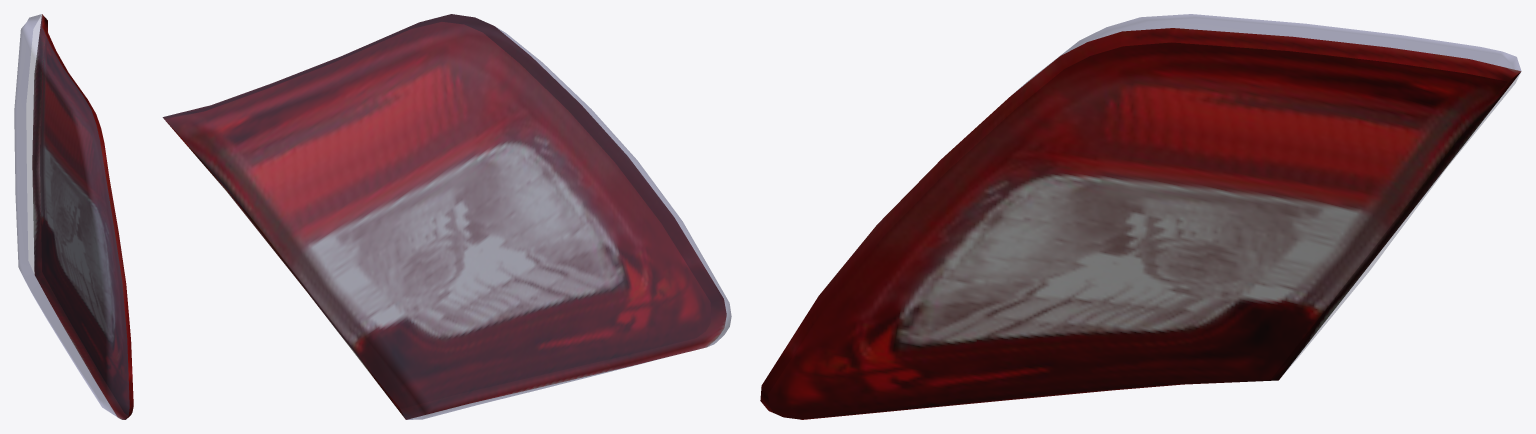
The picture shows the model from 3 angles, left to right: view 1: azimuth 30°, elevation 25°; view 2: azimuth 150°, elevation 25°; view 3: azimuth 270°, elevation 25°; orthographic projection. The views are drawn at different scales.
Visible parts, largest first — view 1: Y175_18_541D_L_Y175_18_541D_L_1_DTaSI, Y175_18_541D_L_2_N_Y175_18_541D_L; view 2: Y175_18_541D_L_Y175_18_541D_L_1_DTaSI, Y175_18_541D_L_2_N_Y175_18_541D_L; view 3: Y175_18_541D_L_2_N_Y175_18_541D_L, Y175_18_541D_L_Y175_18_541D_L_1_DTaSI.
Part boxes in pixels (box(x1,y1,x2,y2)): Y175_18_541D_L_Y175_18_541D_L_1_DTaSI: box(14, 14, 129, 419); Y175_18_541D_L_2_N_Y175_18_541D_L: box(32, 14, 133, 419); Y175_18_541D_L_Y175_18_541D_L_1_DTaSI: box(163, 14, 731, 419); Y175_18_541D_L_2_N_Y175_18_541D_L: box(163, 14, 726, 419); Y175_18_541D_L_2_N_Y175_18_541D_L: box(760, 28, 1521, 419); Y175_18_541D_L_Y175_18_541D_L_1_DTaSI: box(1017, 14, 1521, 373).
Size of the model in its own units: 9.96 by 17.96 by 27.23.
